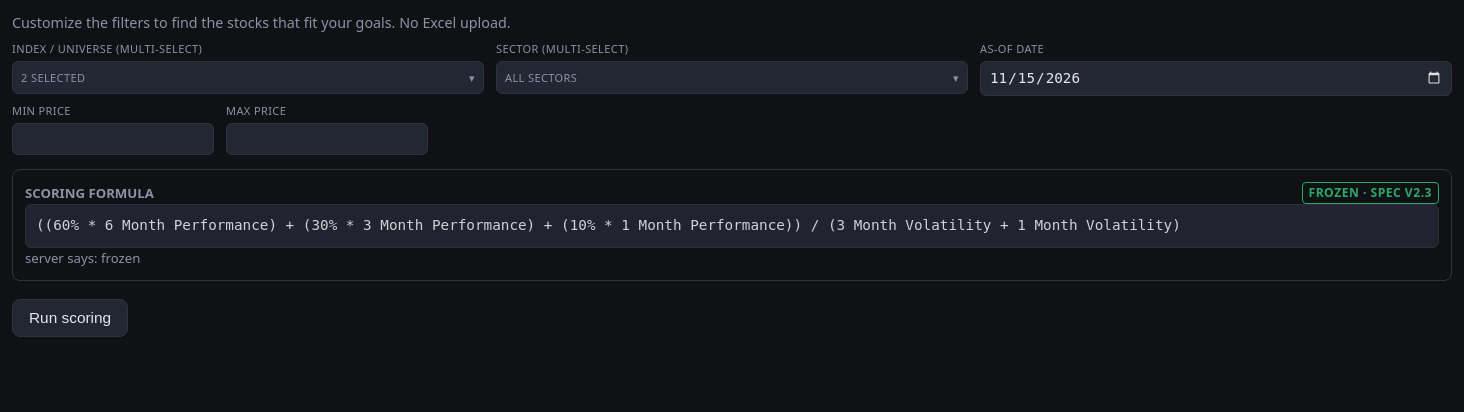
Scenario: ScannerPanel — running › shows the server's message when the run is refused
Click the button "Run scoring": x=70, y=318 [12,299,128,337]
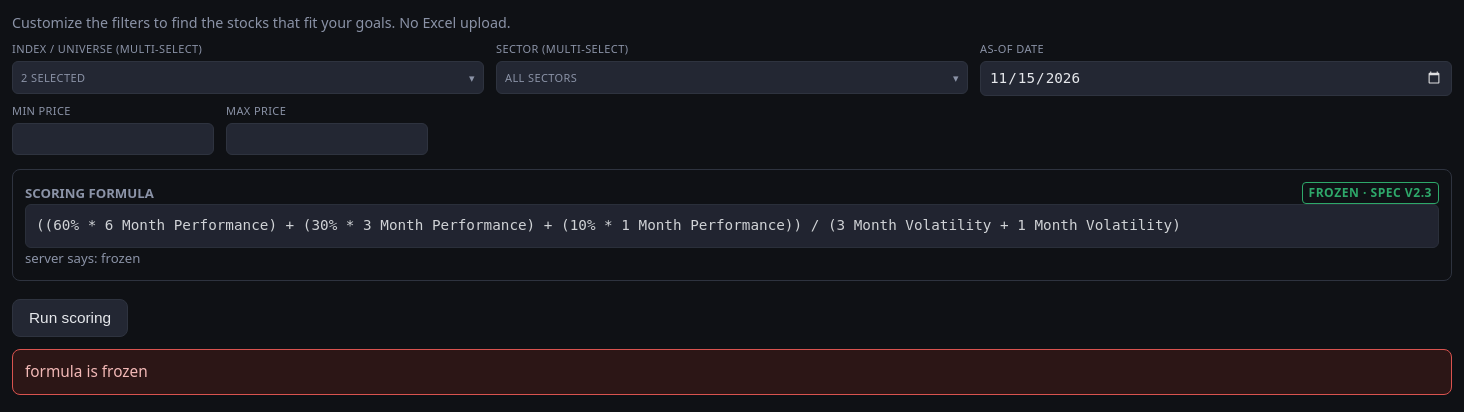
Expected: the text "formula is frozen" is shown, [12,349,1452,395]
